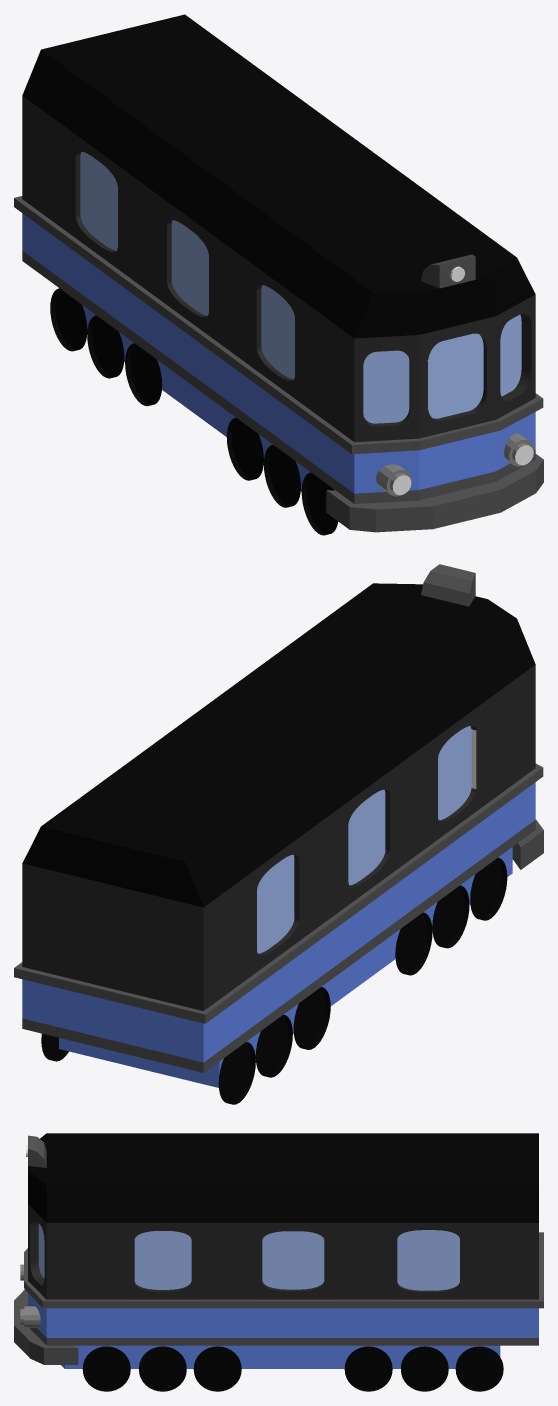
Rendered from mdl_train.gltf.
The picture shows the model from 3 angles, top to bottom: view 1: azimuth 30°, elevation 25°; view 2: azimuth 150°, elevation 25°; view 3: azimuth 270°, elevation 25°; orthographic projection. The views are drawn at different scales.
Visible parts, largest first — view 1: Cube; view 2: Cube; view 3: Cube.
Boxes of the visible parts, <box> form: Cube: <box>14,14,543,535</box>; Cube: <box>14,564,543,1104</box>; Cube: <box>14,1133,543,1391</box>.
Bounding box in the file's own units: 1.75 × 2.49 × 5.56.
1 material, 1 textured.
